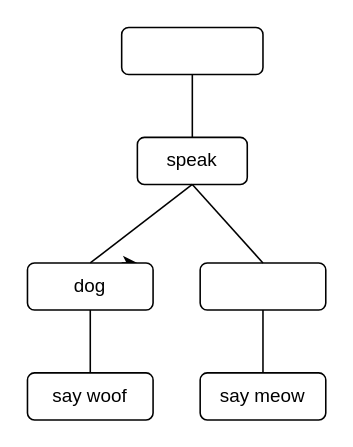
The diagram is 353 pixels wide and 447 high, and some of its shapes have lost their labels. Here are the shapes that lost their labels. From the top down, the centre of each, then its label:
At point 191,50: "animal".
At point 262,285: "cat".
